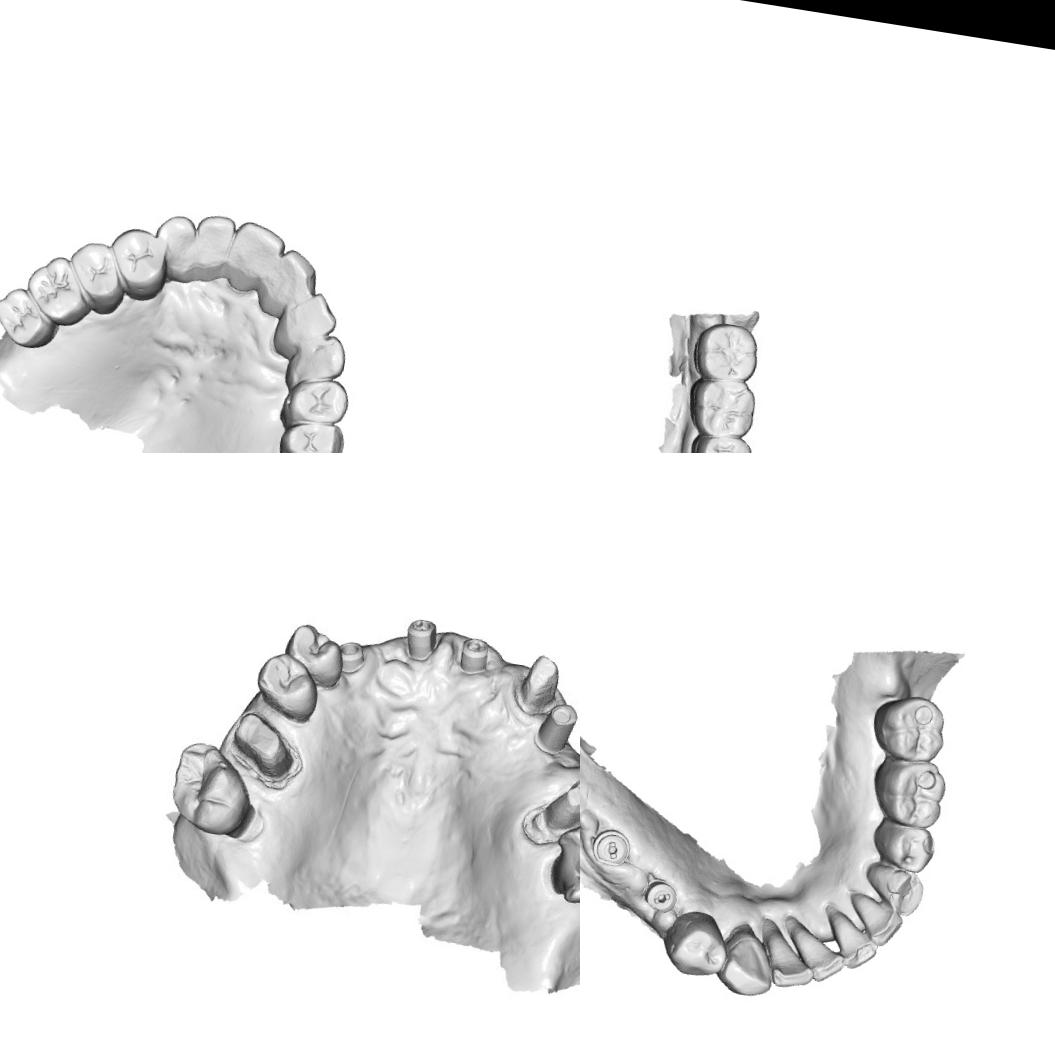abutment: (528, 698, 580, 758)
canine: (715, 921, 785, 1002), (148, 209, 207, 288), (863, 860, 929, 918), (286, 330, 349, 388)
crown: (224, 708, 302, 786), (533, 761, 580, 846), (515, 648, 569, 719)
implant: (454, 634, 496, 682), (403, 615, 442, 664), (331, 638, 372, 676)
implant_minus: (586, 824, 640, 877), (636, 871, 681, 916)
incisor: (222, 218, 289, 298), (263, 244, 319, 326), (186, 208, 242, 286), (277, 286, 341, 354), (820, 908, 884, 975), (763, 924, 821, 993), (842, 890, 906, 951), (790, 936, 852, 988)
molar: (165, 737, 257, 839), (868, 755, 954, 833), (20, 250, 97, 331), (867, 690, 948, 764), (686, 317, 766, 387), (684, 370, 759, 441), (0, 281, 63, 353), (549, 806, 580, 912)
premolar: (100, 222, 176, 306), (59, 234, 132, 318), (249, 645, 324, 724), (659, 909, 729, 983), (867, 814, 939, 877), (282, 620, 350, 686), (280, 372, 353, 432), (275, 410, 350, 453), (685, 426, 760, 453)
